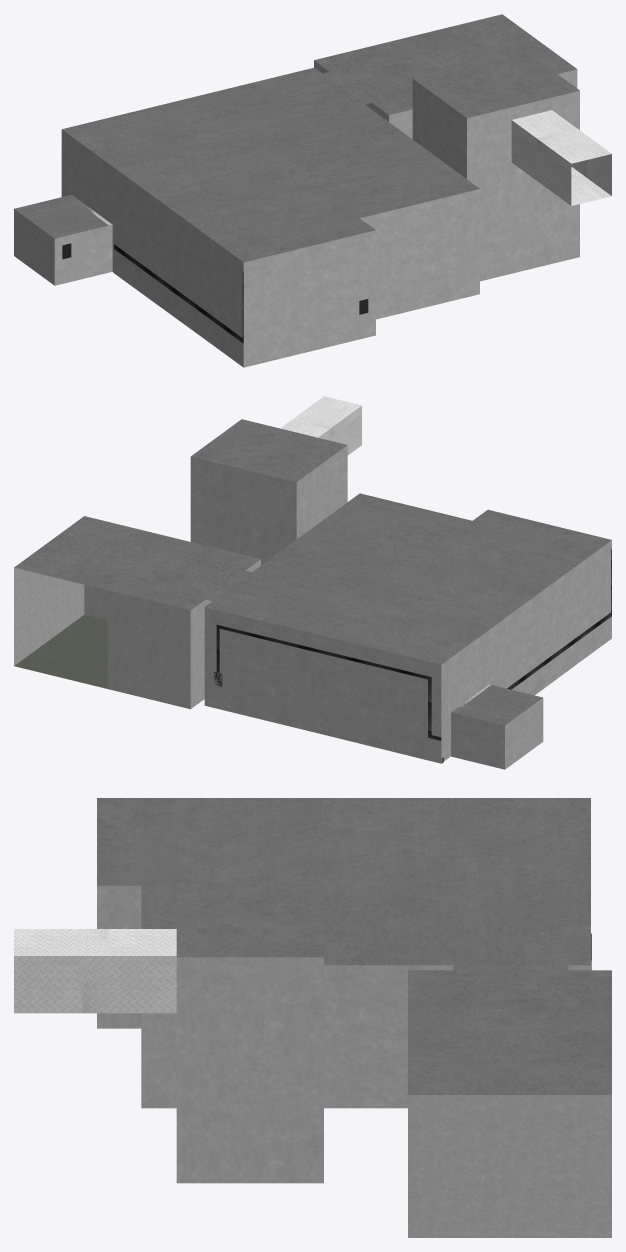
File: Room_13 (2).fbx
The picture shows the model from 3 angles, top to bottom: view 1: azimuth 30°, elevation 25°; view 2: azimuth 150°, elevation 25°; view 3: azimuth 270°, elevation 25°; orthographic projection. The views are drawn at different scales.
Visible parts, largest first — view 1: Cube.063, Cube.130, Cube.068, Cube.065, Cube.173; view 2: Cube.130, Cube.063, Cube.065, Cube.068, Cube.171, Cube.173; view 3: Cube.130, Cube.063, Cube.065, Cube.068.
Boxes of the visible parts, x1,y1,x2,y2 form: Cube.063: (14, 79, 579, 367); Cube.130: (14, 14, 579, 262); Cube.068: (511, 110, 611, 205); Cube.065: (314, 60, 577, 138); Cube.173: (114, 244, 243, 343); Cube.130: (14, 419, 611, 725); Cube.063: (190, 445, 611, 769); Cube.065: (14, 559, 260, 709); Cube.068: (280, 396, 361, 455); Cube.171: (216, 625, 441, 740); Cube.173: (507, 549, 611, 689); Cube.130: (97, 798, 611, 1094); Cube.063: (97, 885, 590, 1183); Cube.065: (408, 1095, 611, 1237); Cube.068: (14, 929, 176, 1013).
Size of the model in its own units: 2570 by 838 by 1938.
